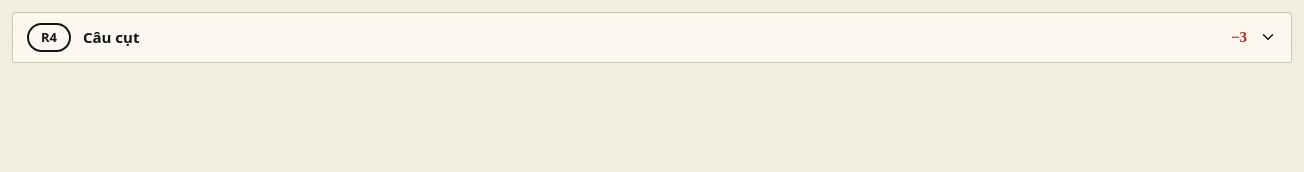
it: UI Design System components › expands/collapses FeedbackLadder items
The width and height of the screenshot is (1304, 172).
Click the button "R4 Câu cụt −3": click(49, 37) [13,13,1291,62]
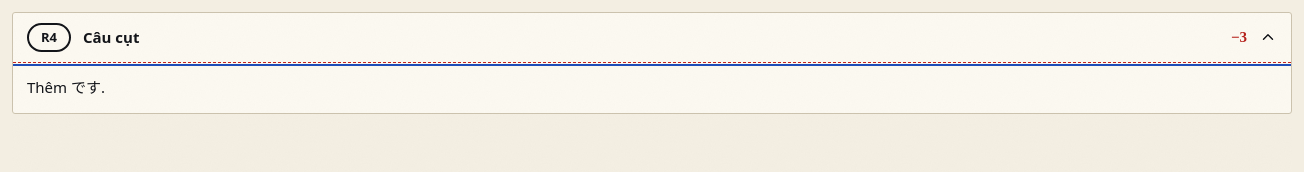
Expected: the button "R4 Câu cụt −3" is expanded, [13,13,1291,62]
Expected: the text "Thêm です." is shown, [27,77,105,97]
